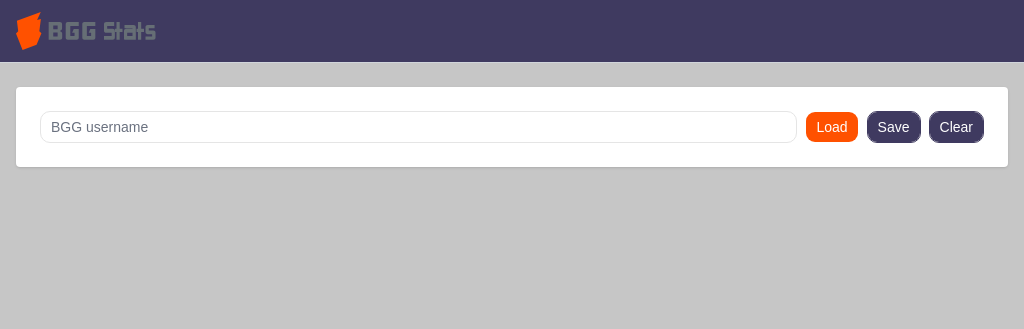
Test: CollectionBrowser › private collection state › Given the collection is private, When the response indicates private, Then a 'collection is private' message is shown
In the field: (419, 127) [40,111,798,143], type "privateuser"
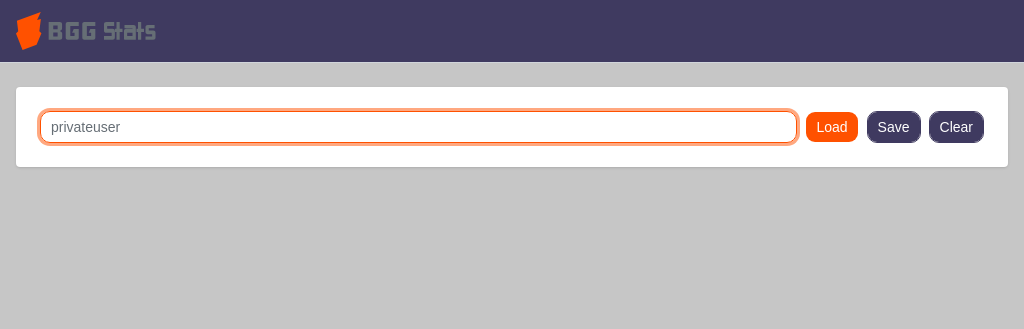
Click the button "Load": (832, 127) [806,111,859,143]
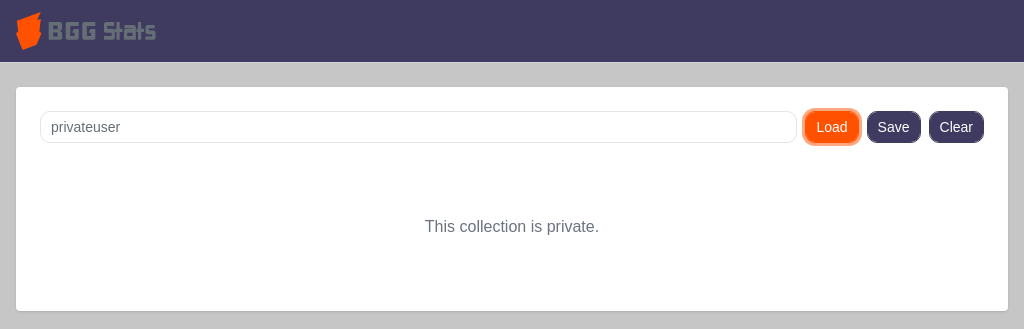
Expected: the text "This collection is private." is shown, [425,218,599,235]
